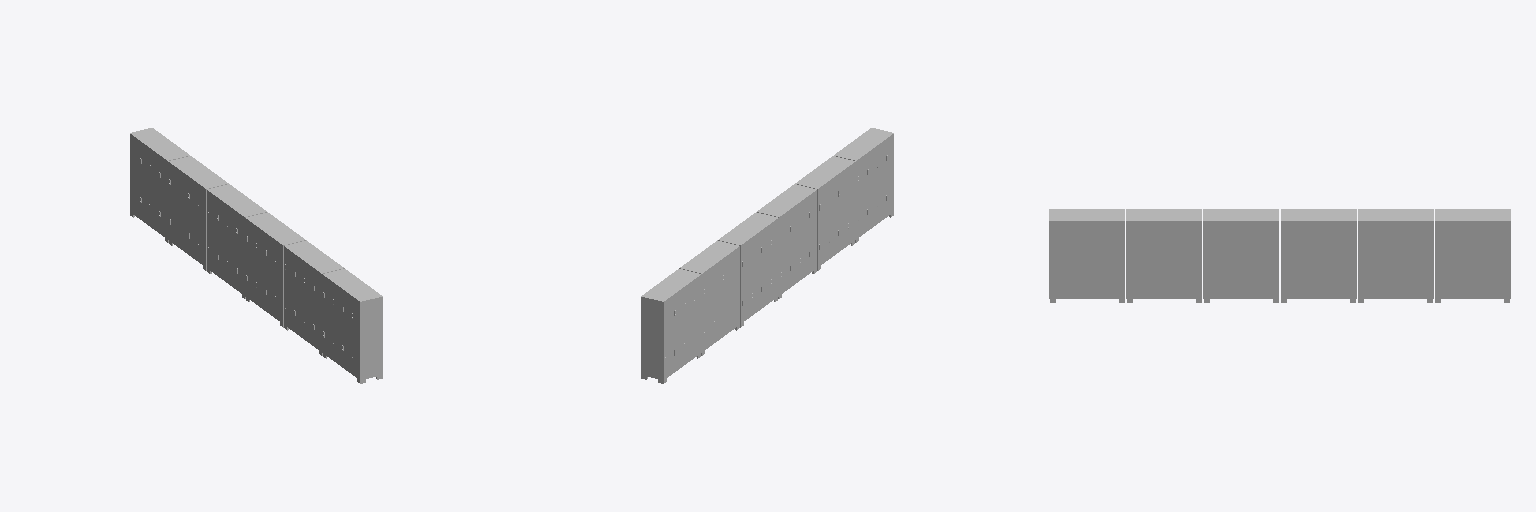
File: casilleros.obj
3 views of the same model, side by side, from view 1: azimuth 30°, elevation 25°; view 2: azimuth 150°, elevation 25°; view 3: azimuth 270°, elevation 25° (orthographic).
Visible parts, largest first — view 1: Low_; view 2: Low_; view 3: Low_.
Part boxes in pixels (x1,y1,x2,y2): Low_: (130, 128, 382, 383); Low_: (641, 128, 893, 383); Low_: (1049, 209, 1510, 302).
Size of the model in its own units: 0.5975 by 2 by 10.16.